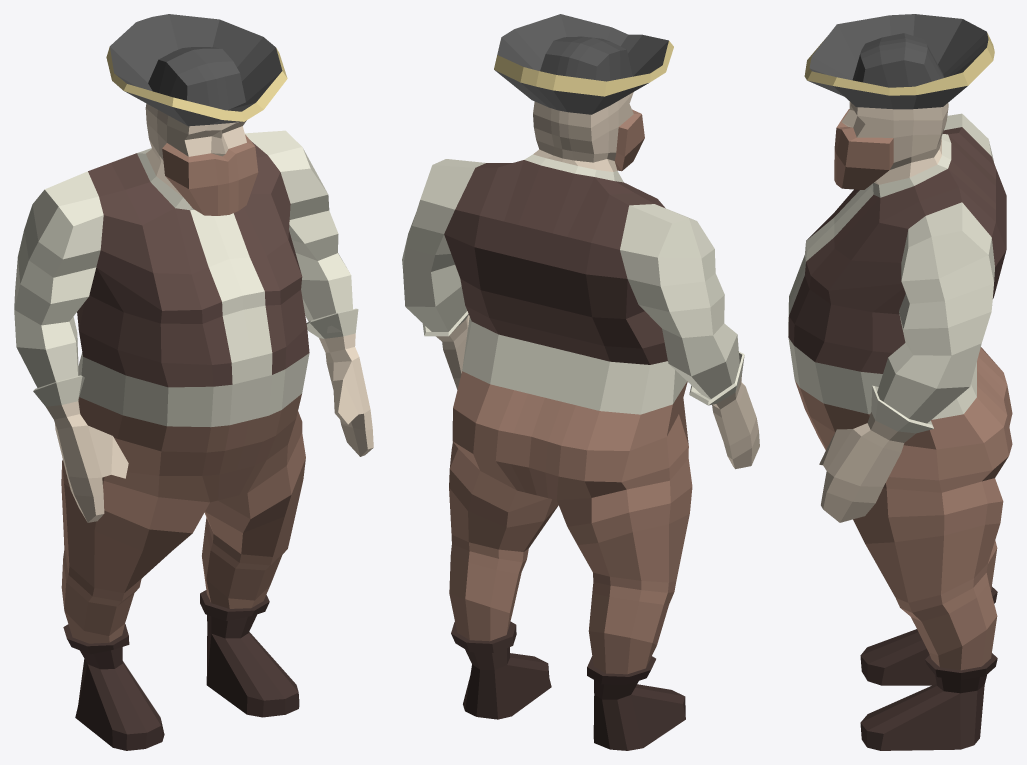
The model's file is MO_CrewMemeber-1.fbx.
3 views of the same model, side by side, from view 1: azimuth 30°, elevation 25°; view 2: azimuth 150°, elevation 25°; view 3: azimuth 270°, elevation 25° (orthographic).
Parts seen in each view (by area): view 1: pCube7; view 2: pCube7; view 3: pCube7.
Boxes of the visible parts, left/top/right/bottom form: pCube7: left=14, top=14, right=373, bottom=750; pCube7: left=402, top=14, right=759, bottom=750; pCube7: left=788, top=14, right=1012, bottom=750.
Bounding box in the file's own units: 3.97 × 7.85 × 2.39.
